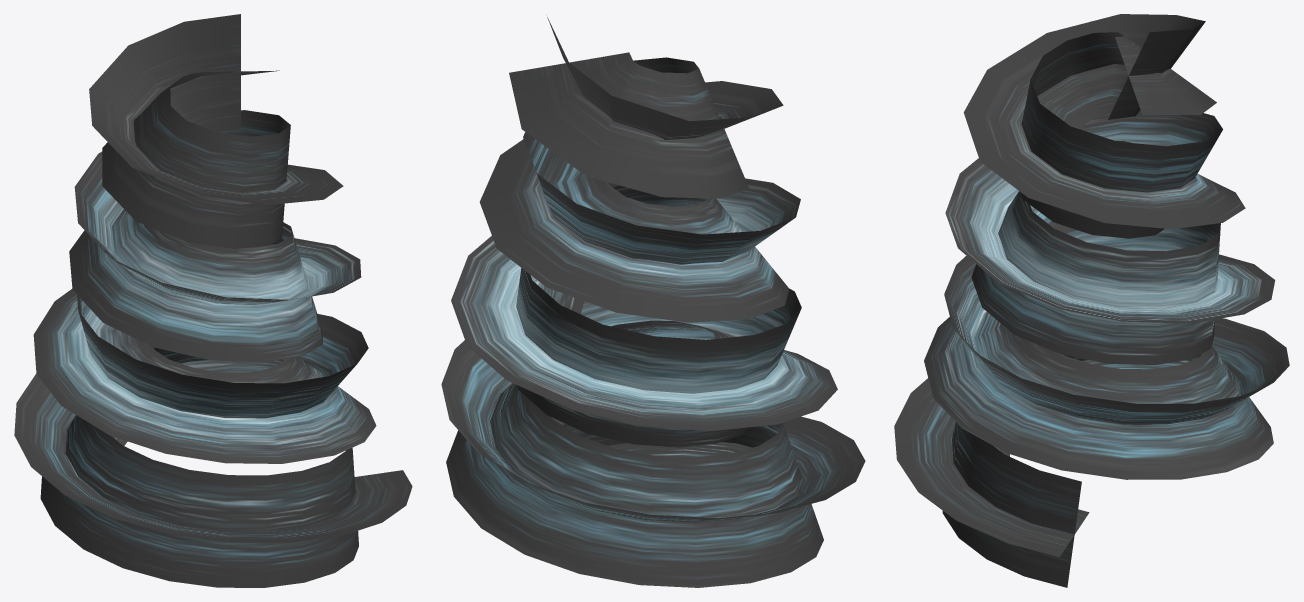
File: shuiguan.FBX
The picture shows the model from 3 angles, left to right: view 1: azimuth 30°, elevation 25°; view 2: azimuth 150°, elevation 25°; view 3: azimuth 270°, elevation 25°; orthographic projection. The views are drawn at different scales.
Visible parts, largest first — view 1: Plane007; view 2: Plane007; view 3: Plane007.
Part boxes in pixels (x1,y1,x2,y2): Plane007: [14, 14, 412, 587]; Plane007: [441, 17, 865, 587]; Plane007: [894, 14, 1289, 587].
Size of the model in its own units: 52.13 by 72.86 by 50.18.
